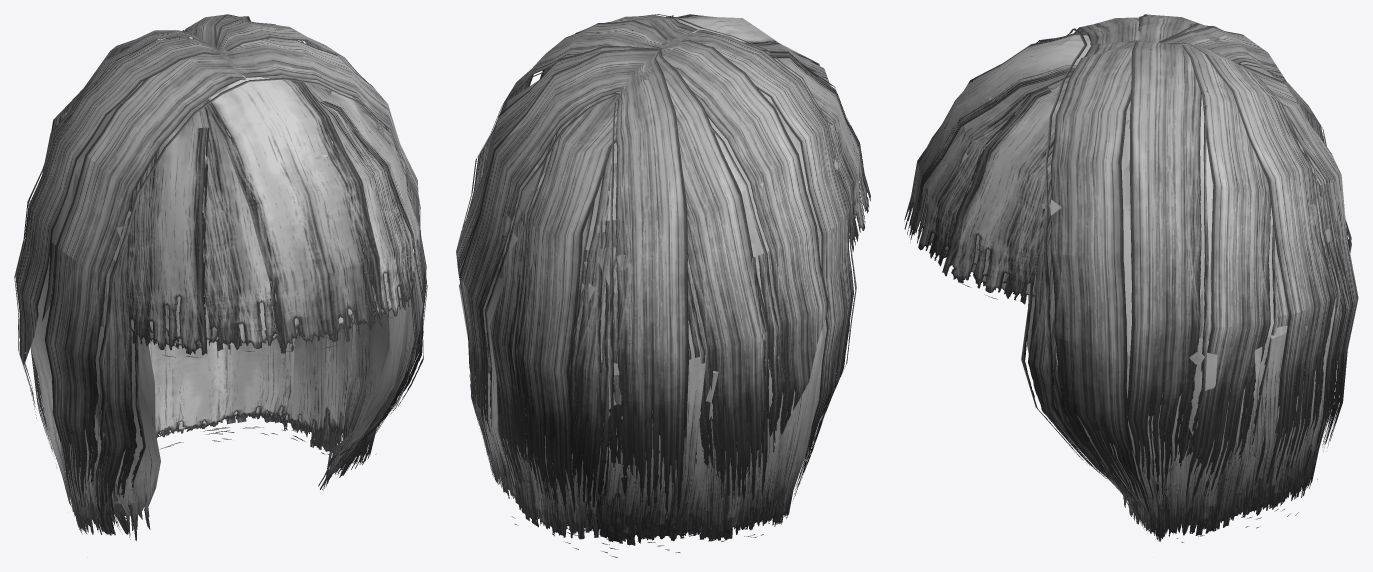
File: daz_hair_asym_short.glb
The picture shows the model from 3 angles, left to right: view 1: azimuth 30°, elevation 25°; view 2: azimuth 150°, elevation 25°; view 3: azimuth 270°, elevation 25°; orthographic projection. The views are drawn at different scales.
Visible parts, largest first — view 1: daz_hair_asym_short; view 2: daz_hair_asym_short; view 3: daz_hair_asym_short.
Boxes of the visible parts, left/top/right/bottom form: daz_hair_asym_short: left=14, top=14, right=427, bottom=540; daz_hair_asym_short: left=456, top=14, right=870, bottom=557; daz_hair_asym_short: left=904, top=14, right=1358, bottom=542.
Bounding box in the file's own units: 0.2056 × 0.2633 × 0.2349.
Materials: 1 (1 with a texture image).
